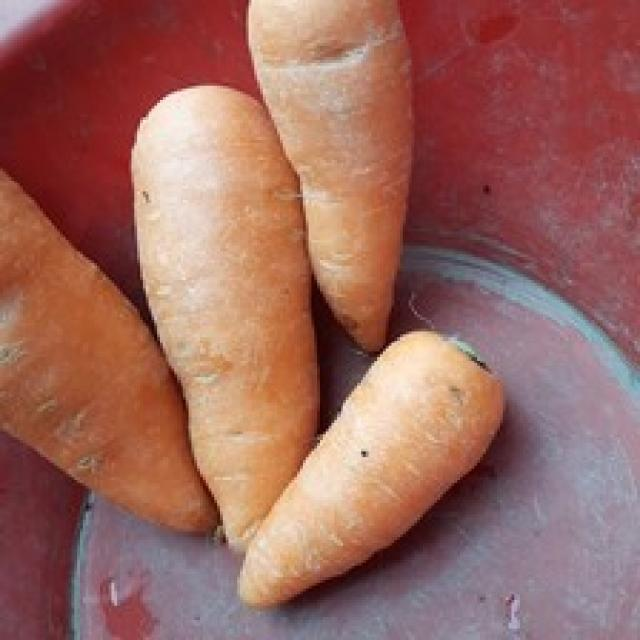carrot: (130, 87, 322, 552), (3, 161, 225, 539), (243, 331, 505, 610), (252, 1, 406, 352)
